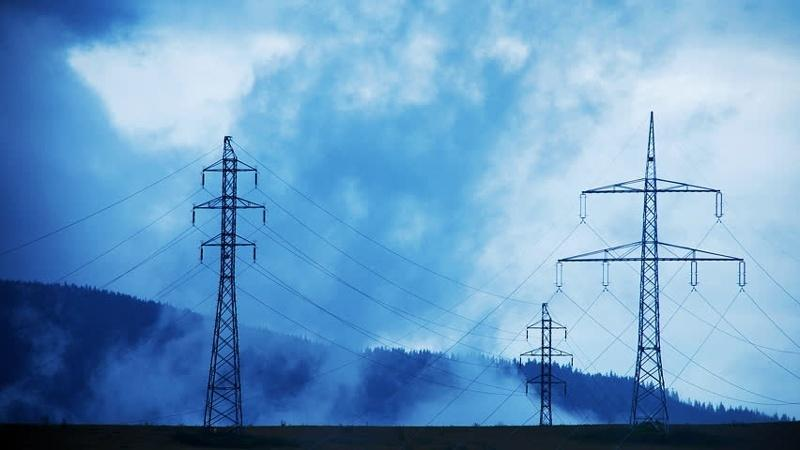power_tower: (554, 106, 750, 425), (182, 126, 264, 426), (512, 301, 580, 423)
